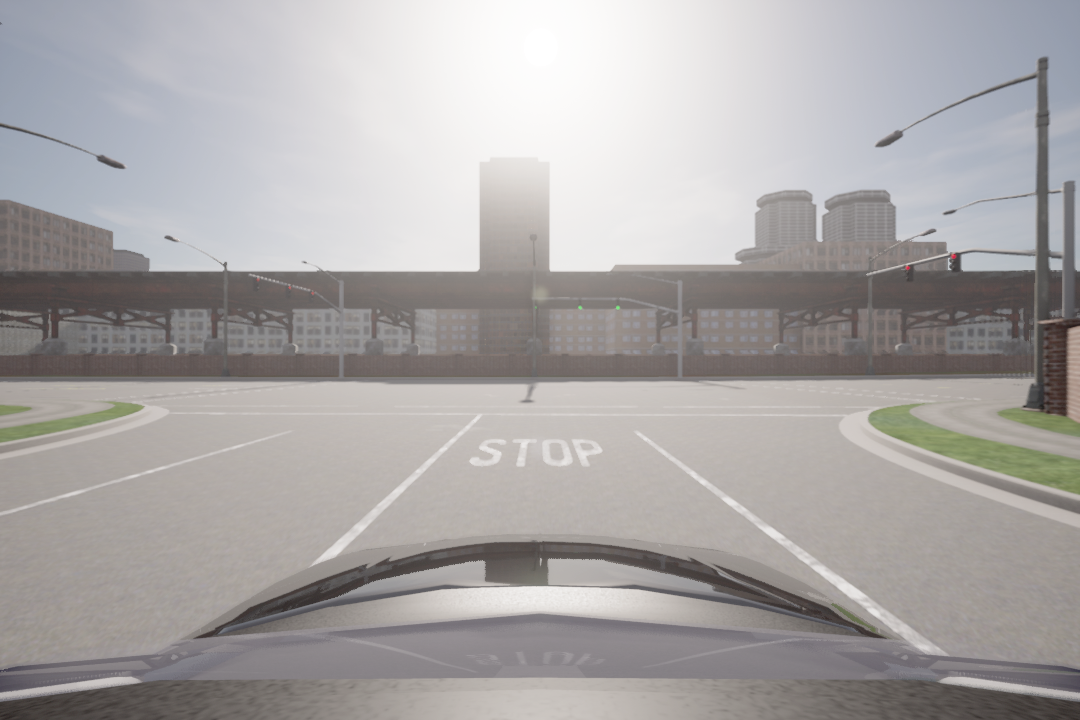TrafficLight: (947, 251, 961, 274), (902, 262, 914, 282)
